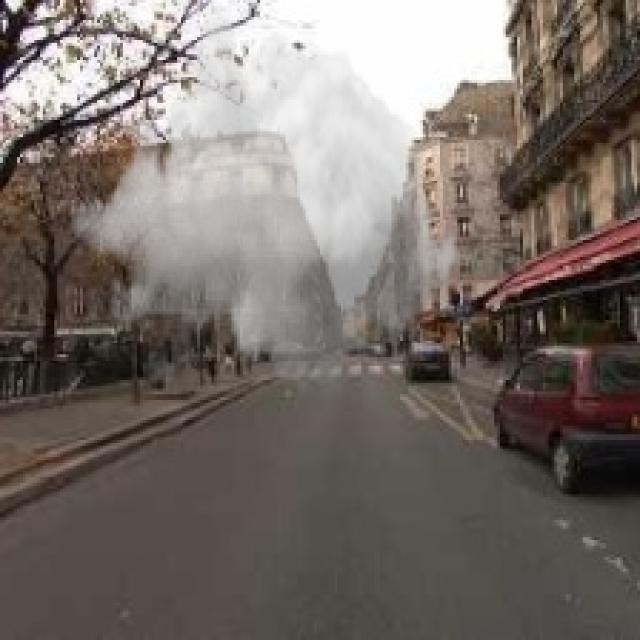Smoke: (68, 6, 466, 403)
